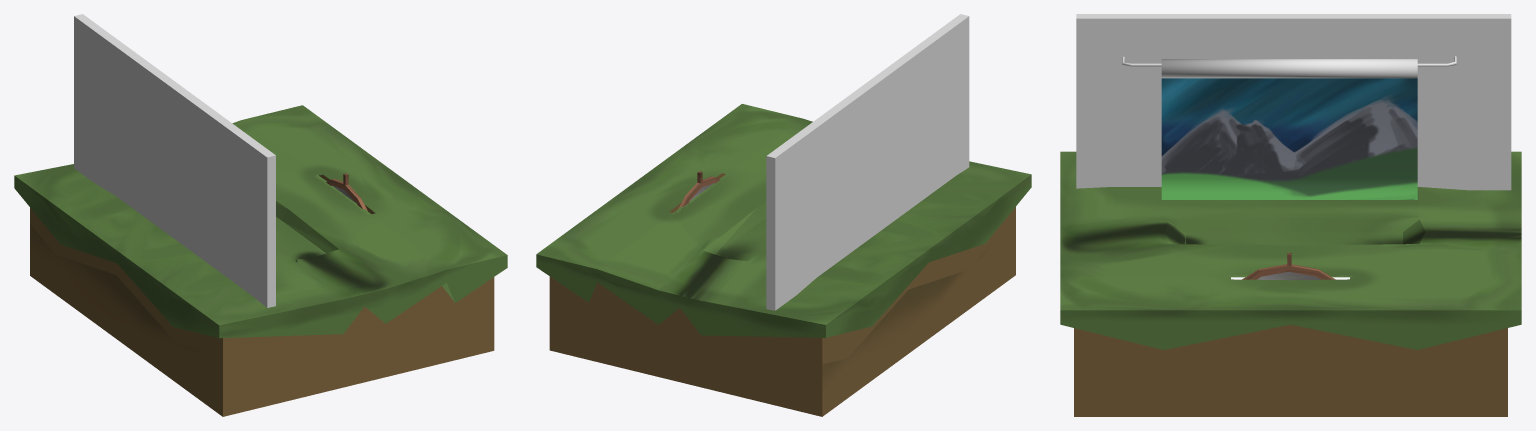
The model's file is World 1.fbx.
The picture shows the model from 3 angles, left to right: view 1: azimuth 30°, elevation 25°; view 2: azimuth 150°, elevation 25°; view 3: azimuth 270°, elevation 25°; orthographic projection. The views are drawn at different scales.
Parts seen in each view (by area): view 1: Ground, Back Wall; view 2: Ground, Back Wall; view 3: Ground, Back Wall, BackDrop.001, BackDroImage, Spinner.
Boxes of the visible parts, <box> form: Ground: <box>14,105,507,416</box>; Back Wall: <box>74,14,275,307</box>; Ground: <box>536,104,1031,416</box>; Back Wall: <box>766,14,969,310</box>; Ground: <box>1060,151,1521,416</box>; Back Wall: <box>1076,14,1511,190</box>; BackDrop.001: <box>1161,78,1417,199</box>; BackDroImage: <box>1161,59,1417,78</box>; Spinner: <box>1242,264,1335,280</box>.
Bounding box in the file's own units: 1414 × 1275 × 1740.
